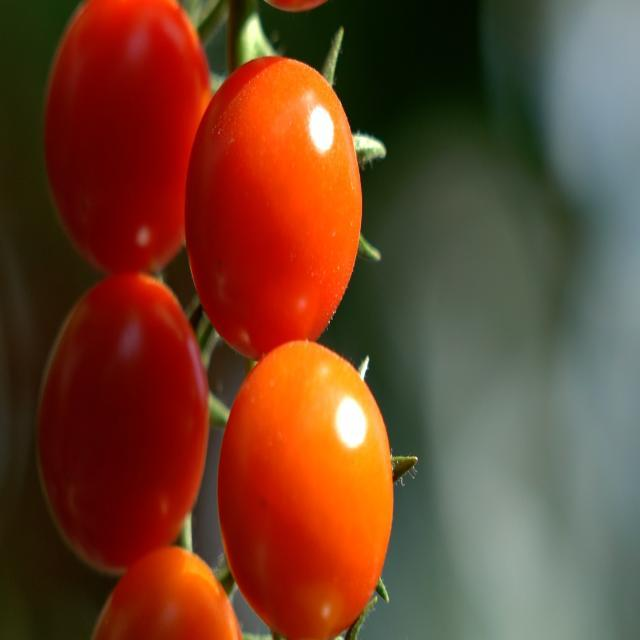kirmizi: (36, 0, 388, 638)
